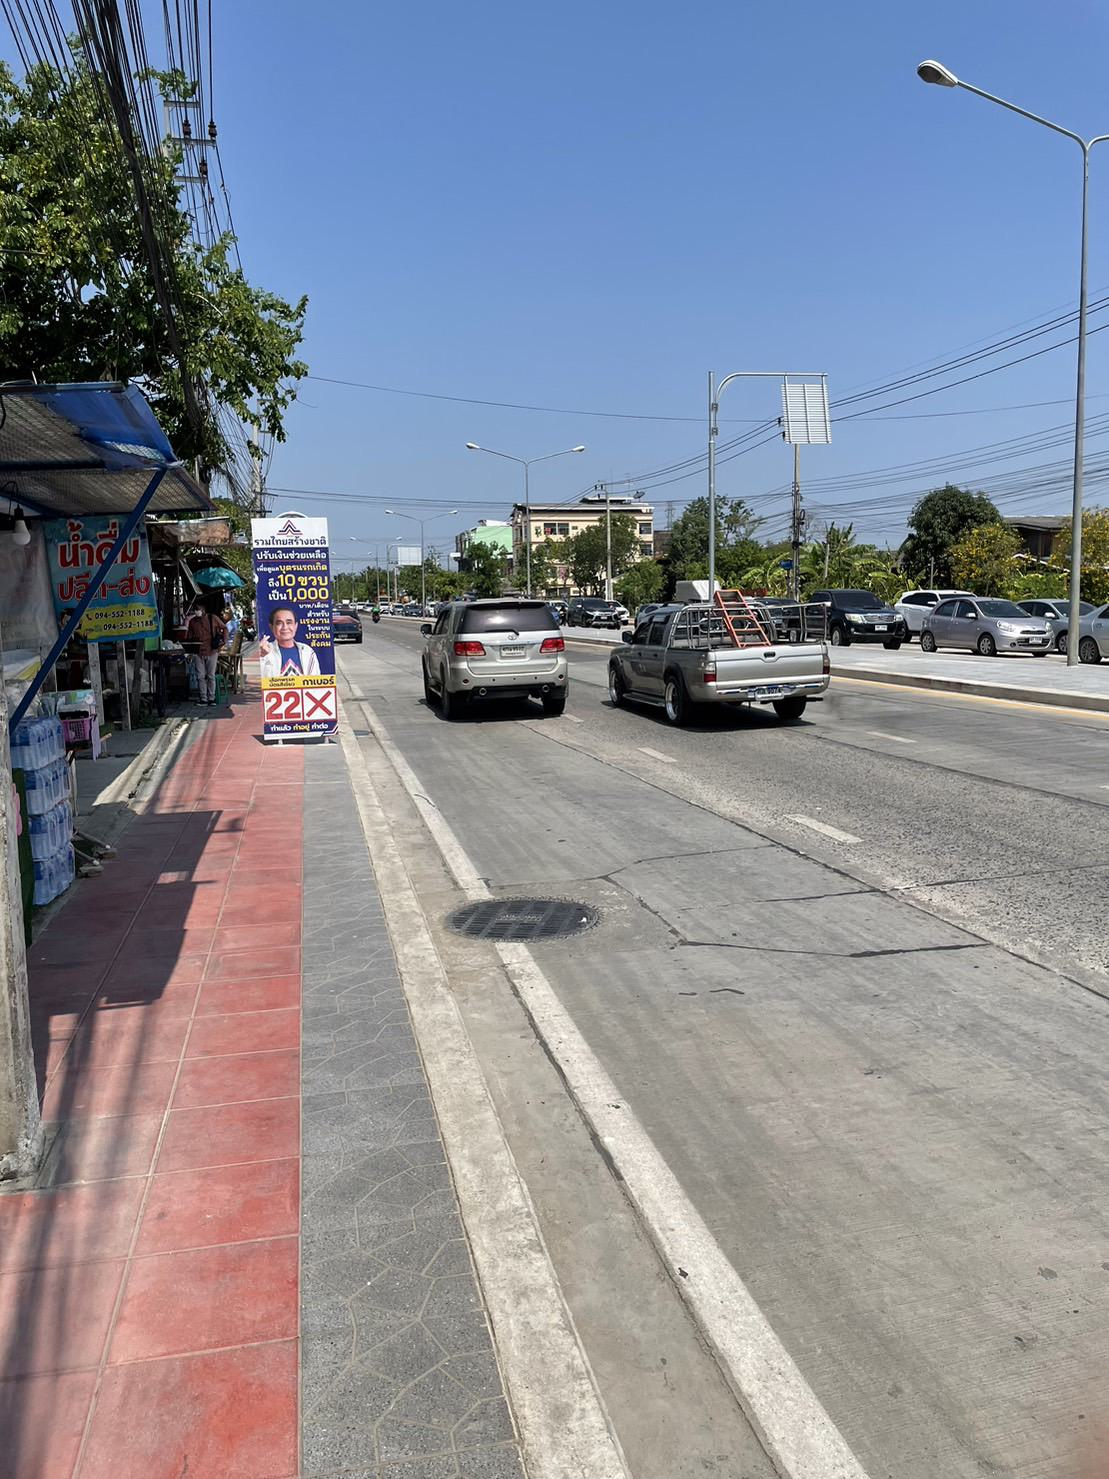Banner: (250, 511, 340, 748)
